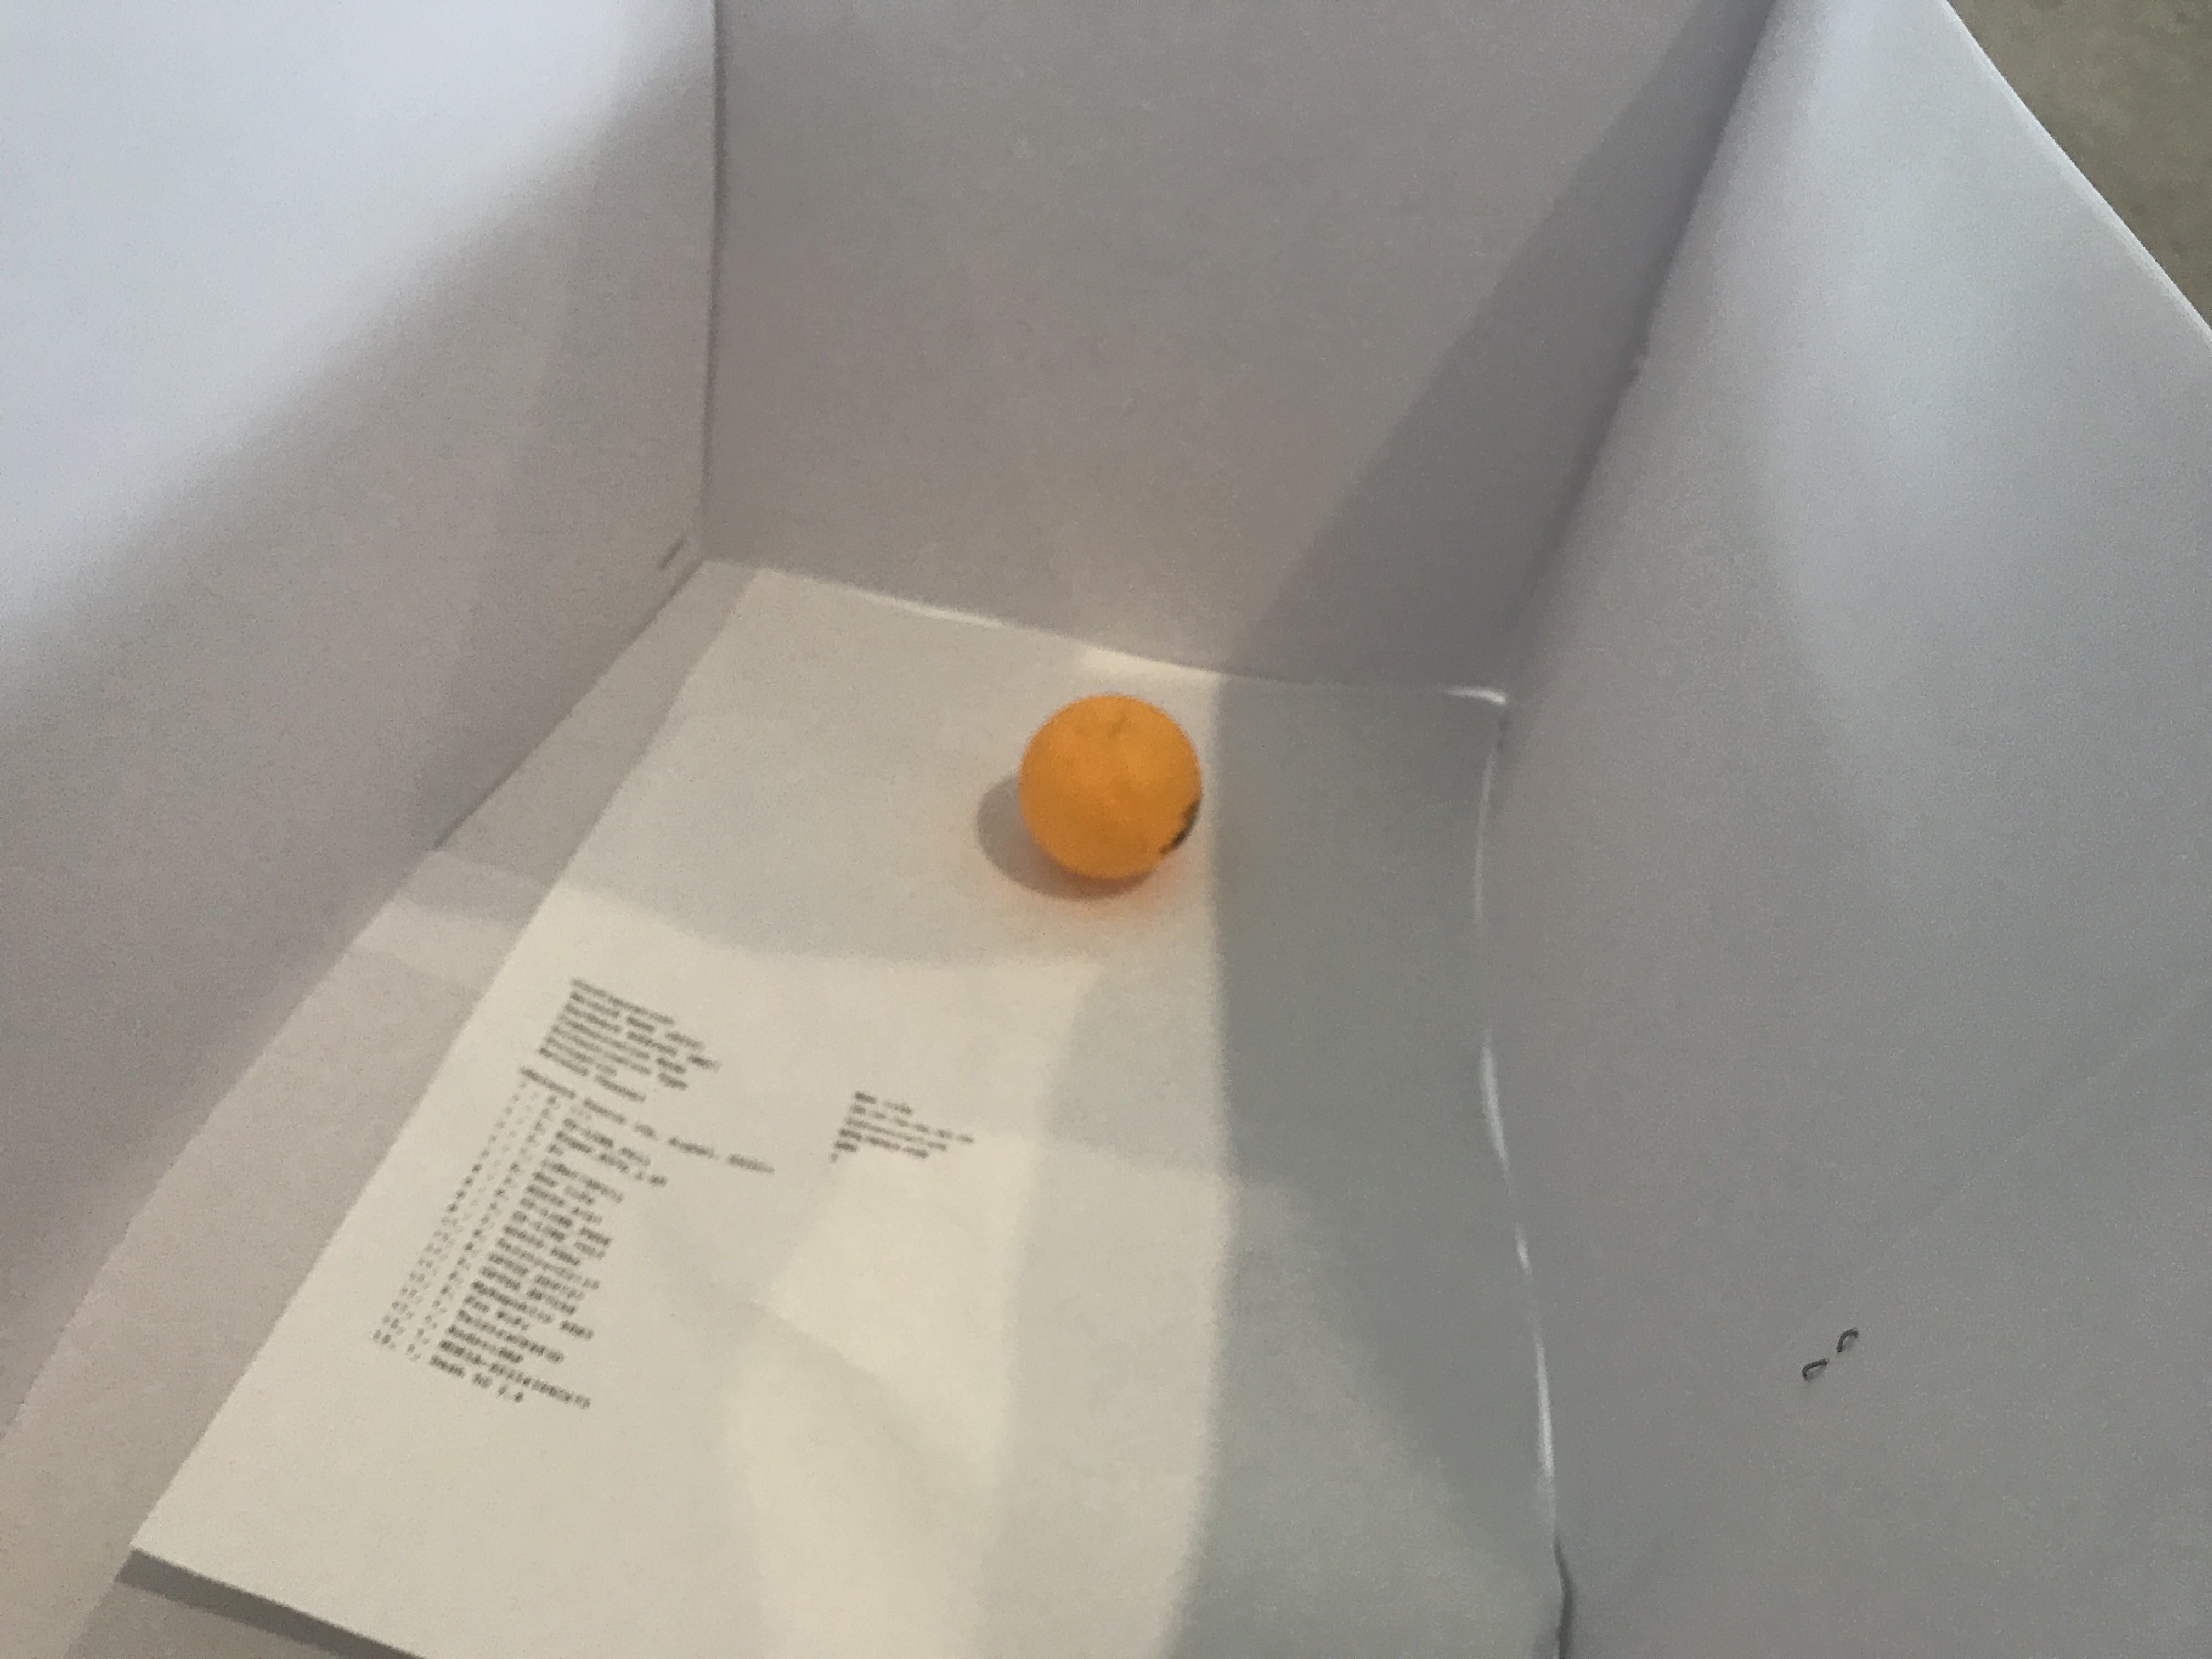pp: (1022, 695, 1205, 889)
